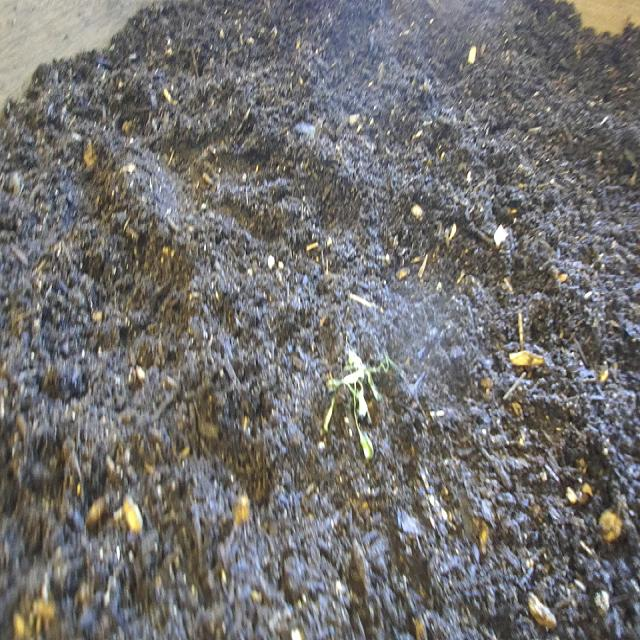Unhealthy: (319, 329, 393, 465)
